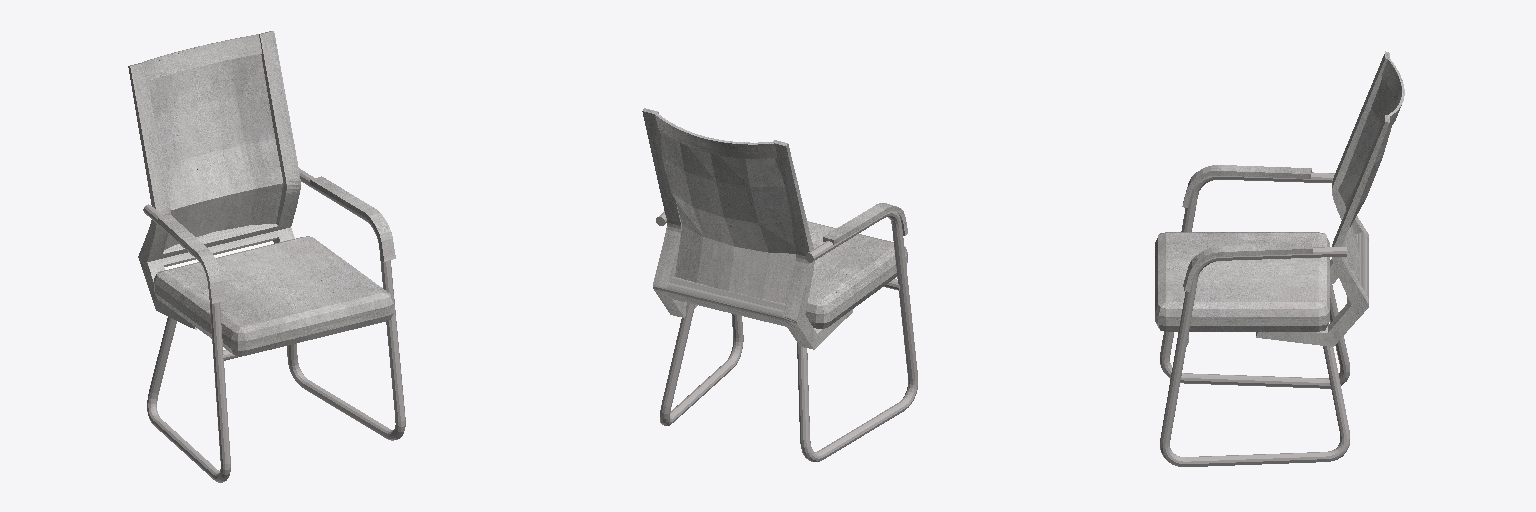
The picture shows the model from 3 angles: view 1: azimuth 30°, elevation 25°; view 2: azimuth 150°, elevation 25°; view 3: azimuth 270°, elevation 25°; orthographic projection.
Visible parts, largest first — view 1: Plane008_Untitled.004; view 2: Plane008_Untitled.004; view 3: Plane008_Untitled.004.
Part boxes in pixels (left/top/right/bottom): Plane008_Untitled.004: left=128, top=31, right=405, bottom=482; Plane008_Untitled.004: left=642, top=108, right=917, bottom=461; Plane008_Untitled.004: left=1155, top=51, right=1404, bottom=466.
Size of the model in its own units: 0.5407 by 0.9478 by 0.6335.
1 materials, 1 textured.